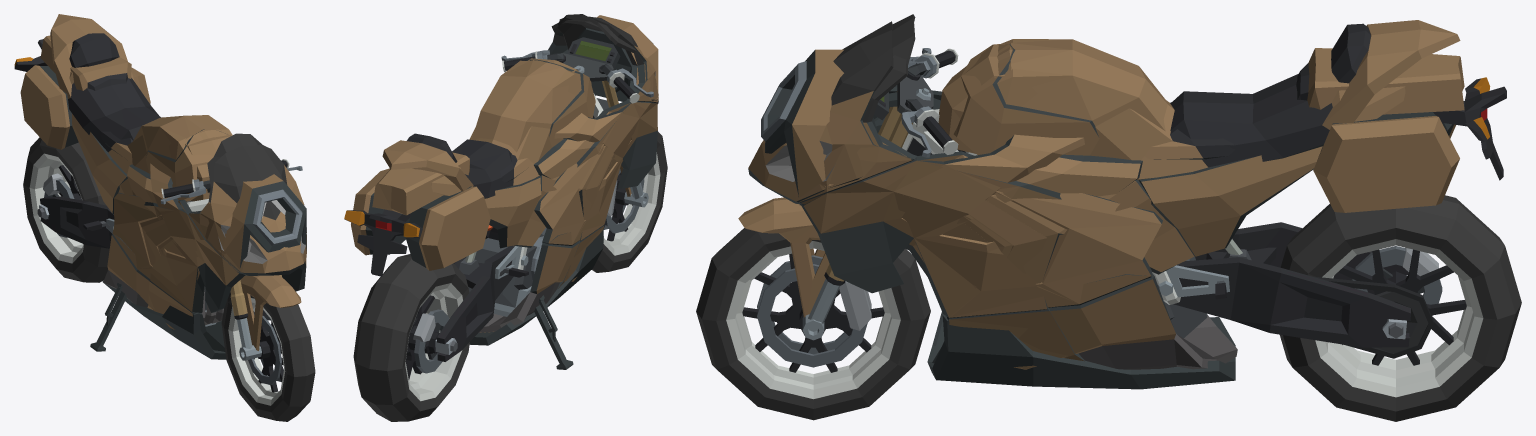
Rendered from redline_street_motorbike.glb.
3 views of the same model, side by side, from view 1: azimuth 30°, elevation 25°; view 2: azimuth 150°, elevation 25°; view 3: azimuth 270°, elevation 25° (orthographic). The views are drawn at different scales.
Visible parts, largest first — view 1: Body, Wheel_FR_Stock, V_Seat_01, V_Panel_Front_01, V_Seat_02, V_Panel_Mid_03, V_Panel_Front_03, V_Panel_Mid_01, V_Panel_Mid_02, V_Panel_Bottom_01, V_Fuel_Tank_01, V_Fuel_Tank_02 (+5 smaller); view 2: Body, V_Seat_02, V_Panel_Mid_01, V_Panel_Mid_03, V_Seat_01, V_Panel_Mid_02, Wheel_FR_Stock, V_Fuel_Tank_02, V_Fuel_Tank_01, V_Panel_Front_03, V_Panel_Bottom_01, V_Seat_03 (+5 smaller); view 3: Body, Wheel_FR_Stock, V_Panel_Mid_03, V_Panel_Mid_01, V_Seat_02, V_Panel_Mid_02, V_Seat_01, V_Panel_Bottom_01, V_Panel_Bottom_03, V_Fuel_Tank_02, V_Panel_Front_01, V_Panel_Front_03 (+5 smaller).
Boxes of the visible parts, <box> form: Body: <box>23,137,302,360</box>; Wheel_FR_Stock: <box>221,292,315,421</box>; V_Seat_01: <box>20,14,161,173</box>; V_Panel_Front_01: <box>189,144,306,275</box>; V_Seat_02: <box>14,35,159,149</box>; V_Panel_Mid_03: <box>113,164,306,312</box>; V_Panel_Front_03: <box>189,133,306,269</box>; V_Panel_Mid_01: <box>112,163,239,312</box>; V_Panel_Mid_02: <box>72,113,246,312</box>; V_Panel_Bottom_01: <box>103,234,224,348</box>; V_Fuel_Tank_01: <box>133,115,232,199</box>; V_Fuel_Tank_02: <box>133,115,222,201</box>; Body: <box>353,37,653,421</box>; V_Seat_02: <box>344,139,507,276</box>; V_Panel_Mid_01: <box>534,101,655,245</box>; V_Panel_Mid_03: <box>534,103,657,244</box>; V_Seat_01: <box>344,133,539,276</box>; V_Panel_Mid_02: <box>485,100,657,248</box>; Wheel_FR_Stock: <box>592,131,667,272</box>; V_Fuel_Tank_02: <box>472,60,575,150</box>; V_Fuel_Tank_01: <box>480,59,595,152</box>; V_Panel_Front_03: <box>557,14,658,101</box>; V_Panel_Bottom_01: <box>484,226,603,330</box>; V_Seat_03: <box>344,154,531,253</box>; Body: <box>738,48,1521,421</box>; Wheel_FR_Stock: <box>696,228,930,420</box>; V_Panel_Mid_03: <box>801,154,1150,317</box>; V_Panel_Mid_01: <box>800,134,1162,307</box>; V_Seat_02: <box>1170,48,1504,212</box>; V_Panel_Mid_02: <box>801,90,1322,318</box>; V_Seat_01: <box>1137,20,1506,180</box>; V_Panel_Bottom_01: <box>935,273,1237,369</box>; V_Panel_Bottom_03: <box>927,312,1235,389</box>; V_Fuel_Tank_02: <box>953,39,1167,154</box>; V_Panel_Front_01: <box>748,21,911,204</box>; V_Panel_Front_03: <box>761,14,915,197</box>.
Size of the model in its own units: 1.34 by 2.35 by 4.4.
2 materials, 2 textured.
